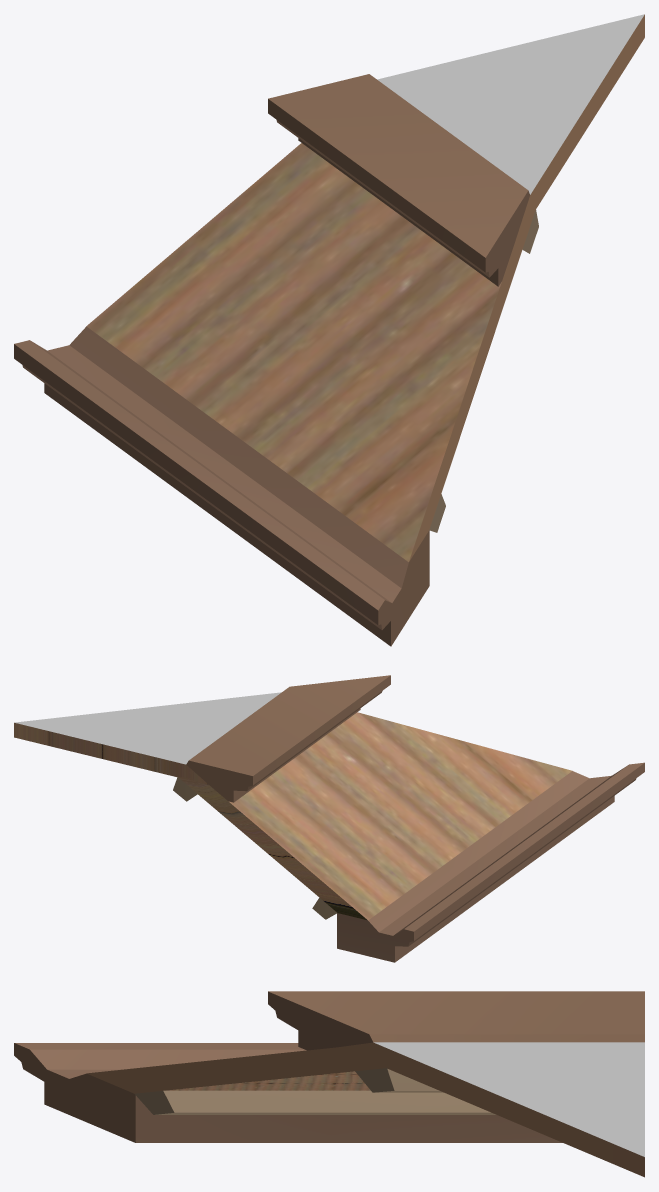
The model's file is SEMI ROOF 02.fbx.
3 views of the same model, one above another, from view 1: azimuth 30°, elevation 25°; view 2: azimuth 150°, elevation 25°; view 3: azimuth 270°, elevation 25° (orthographic). The views are drawn at different scales.
Visible parts, largest first — view 1: SemiRoof02; view 2: SemiRoof02; view 3: SemiRoof02.
Boxes of the visible parts, bbox=[...] form: SemiRoof02: bbox=[14, 14, 644, 646]; SemiRoof02: bbox=[14, 675, 644, 962]; SemiRoof02: bbox=[14, 991, 644, 1177].
Bounding box in the file's own units: 295 × 107 × 295.
